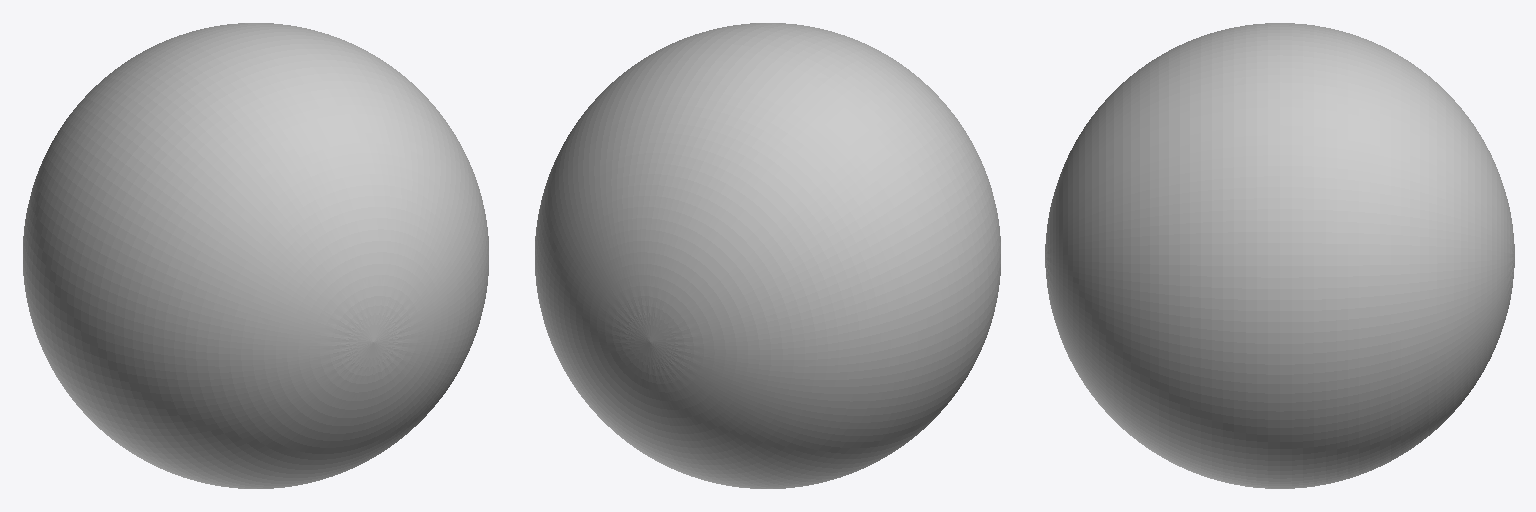
File: polysphere.obj
3 views of the same model, side by side, from view 1: azimuth 30°, elevation 25°; view 2: azimuth 150°, elevation 25°; view 3: azimuth 270°, elevation 25° (orthographic).
Visible parts, largest first — view 1: High poly sphere1; view 2: High poly sphere1; view 3: High poly sphere1.
Boxes of the visible parts, x1,y1,x2,y2 form: High poly sphere1: [23, 23, 488, 488]; High poly sphere1: [535, 23, 1000, 488]; High poly sphere1: [1045, 23, 1514, 488].
Bounding box in the file's own units: 11010 × 11010 × 11126.